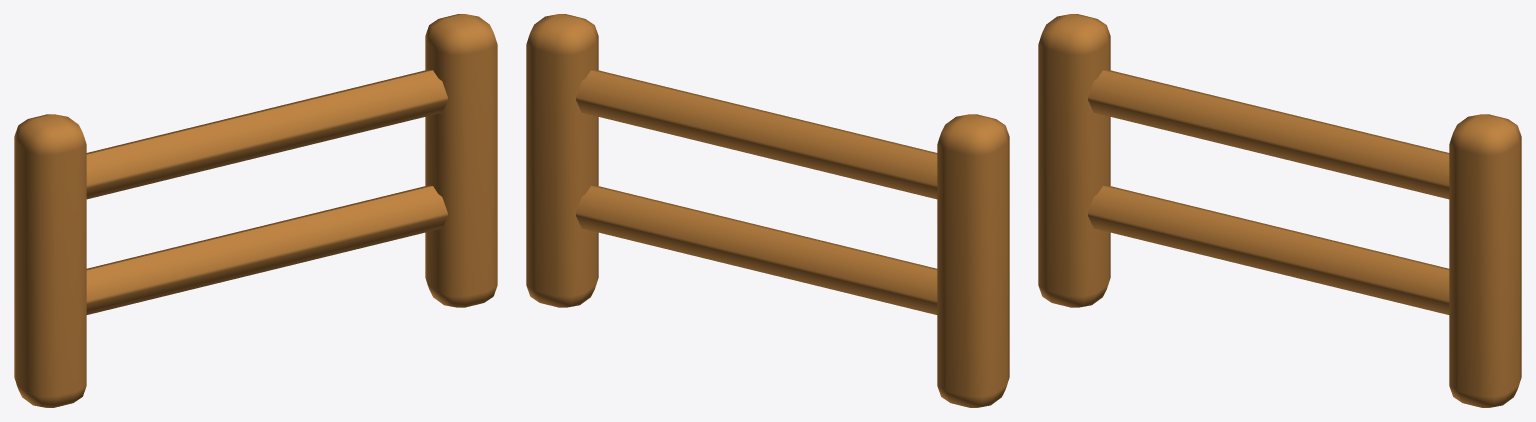
Rendered from fence.glb.
The picture shows the model from 3 angles, left to right: view 1: azimuth 30°, elevation 25°; view 2: azimuth 150°, elevation 25°; view 3: azimuth 330°, elevation 25°; orthographic projection.
Parts seen in each view (by area): view 1: wood_mesh.001; view 2: wood_mesh.001; view 3: wood_mesh.001.
Part boxes in pixels (x1,y1,x2,y2): wood_mesh.001: [14, 14, 497, 407]; wood_mesh.001: [526, 14, 1009, 407]; wood_mesh.001: [1038, 14, 1521, 407].
Bounding box in the file's own units: 1.48 × 0.85 × 0.18.
